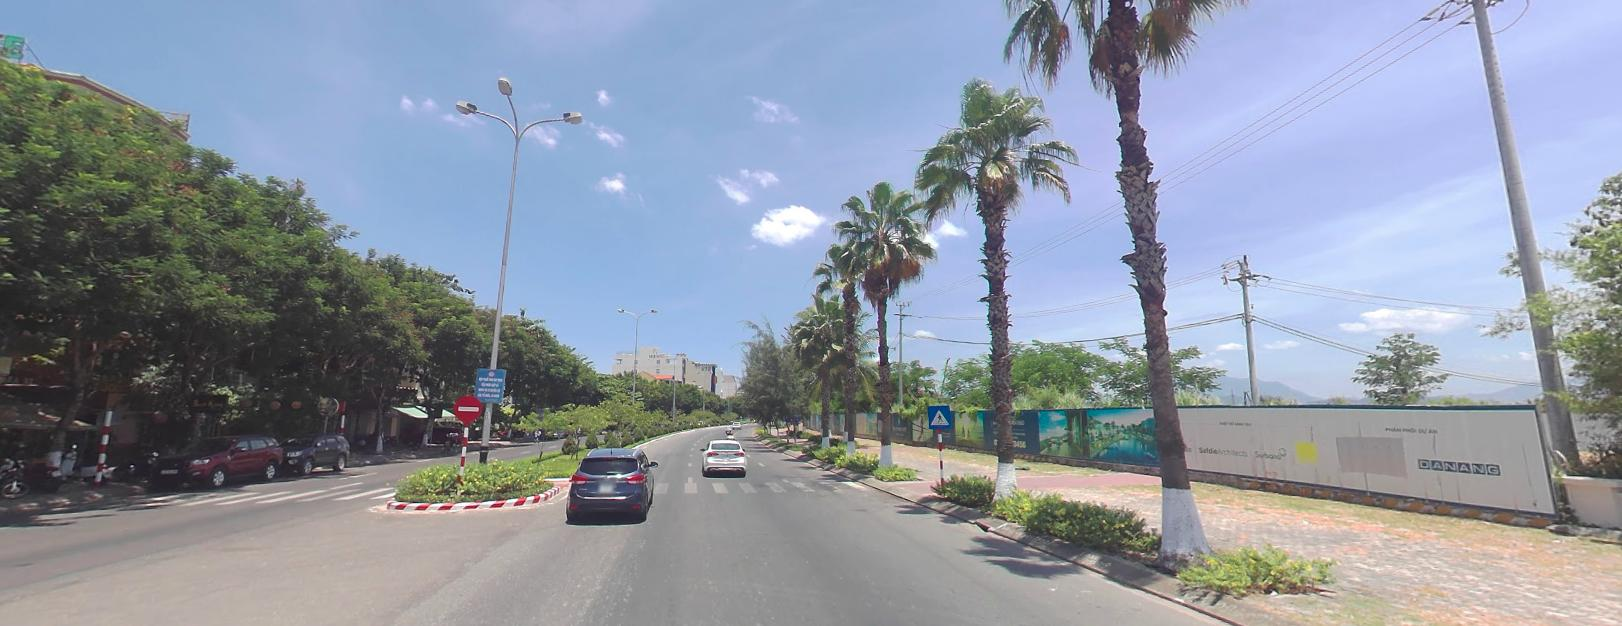Cam nguoc chieu: (452, 393, 482, 422)
